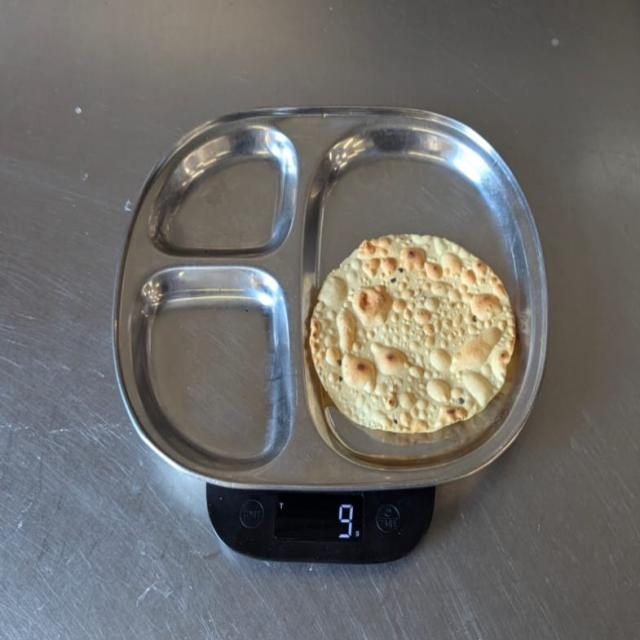Papad: (312, 236, 515, 434)
